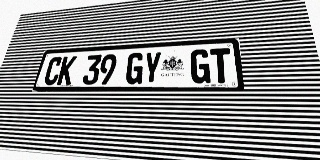3: (82, 55, 102, 85)
9: (97, 54, 118, 85)
C: (43, 57, 63, 85)
G: (191, 49, 210, 83), (125, 52, 145, 84)
K: (56, 56, 77, 85)
T: (210, 48, 232, 83)
Y: (142, 51, 162, 84)
